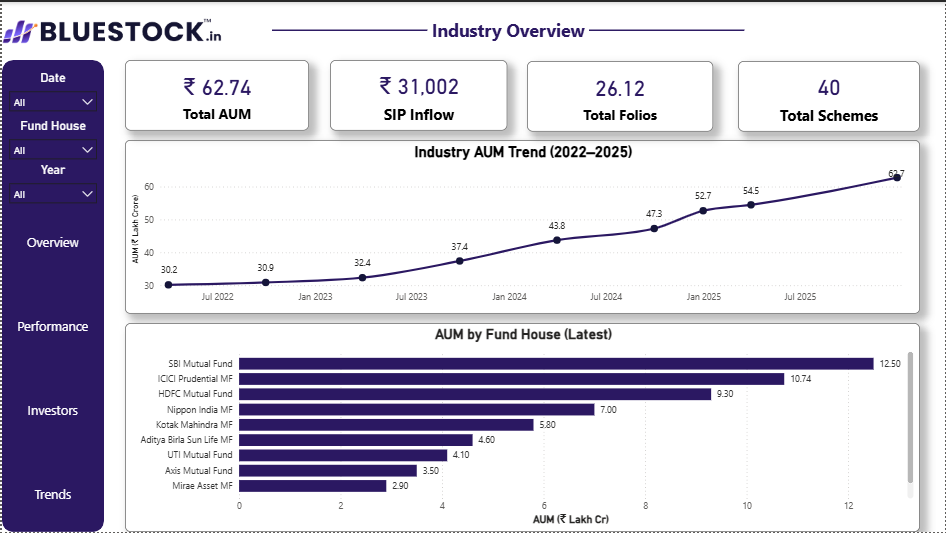

What the dashboard file says about the page in this screenshot:
{"tool":"powerbi","page":{"name":"Overview","canvas":[1280,720],"ordinal":0},"visuals":[{"type":"textbox","box":[578.6,15.7,218.6,42.9],"z":0},{"type":"shape","box":[367.1,17.1,211.4,41.4],"z":1000},{"type":"shape","box":[0,78.6,138.6,641.4],"z":2000},{"type":"pageNavigator","box":[0,272.9,138.6,447.1],"z":3000},{"type":"card","title":"Total AUM (₹ Lakh Cr)","fields":{"Values":["all measures.Total AUM"]},"box":[167.1,78.6,250,95.7],"z":4000},{"type":"shape","box":[797.1,17.1,211.4,41.4],"z":5000},{"type":"card","title":"Total AUM (₹ Lakh Cr)","fields":{"Values":["all measures.Latest SIP Inflow"]},"box":[445.7,78.6,241.4,95.7],"z":6000},{"type":"card","title":"Total AUM (₹ Lakh Cr)","fields":{"Values":["all measures.Latest Folios"]},"box":[712.9,80,252.9,95.7],"z":7000},{"type":"card","title":"Total AUM (₹ Lakh Cr)","fields":{"Values":["all measures.Total Schemes"]},"box":[1000,80,247.1,95.7],"z":8000},{"type":"lineChart","title":"Industry AUM Trend (2022–2025)","fields":{"Category":["aum_by_fund_house_cleaned.date"],"Y":["Sum(aum_by_fund_house_cleaned.aum_lakh_crore)"]},"box":[167.1,187.1,1080,235.7],"z":9000},{"type":"clusteredBarChart","title":"AUM by Fund House (Latest)","fields":{"Category":["aum_by_fund_house_cleaned.fund_house"],"Y":["all measures.Latest AUM by Fund House"]},"box":[167.1,435.7,1080,284.3],"z":10000},{"type":"slicer","title":"Year","fields":{"Values":["aum_by_fund_house_cleaned.date.Variation.Date Hierarchy.Year"]},"box":[0,217.1,138.6,60],"z":11000},{"type":"slicer","title":"Fund House","fields":{"Values":["aum_by_fund_house_cleaned.fund_house"]},"box":[0,157.1,138.6,60],"z":12000},{"type":"slicer","title":"Date","fields":{"Values":["aum_by_fund_house_cleaned.date"]},"box":[0,92.9,138.6,60],"z":13000},{"type":"image","box":[0,0,300,78.6],"z":14000}]}

Visuals, with their boxes on the page's 1280x720 design canvas (x1, y1, x2, y2). These are canvas units, not pixel positions in the 946x533 screenshot, which may show the page scaled, cropped or inside an application window:
textbox: [x1=579, y1=16, x2=797, y2=59]
shape: [x1=367, y1=17, x2=578, y2=58]
shape: [x1=0, y1=79, x2=139, y2=720]
pageNavigator: [x1=0, y1=273, x2=139, y2=720]
"Total AUM (₹ Lakh Cr)" card: [x1=167, y1=79, x2=417, y2=174]
shape: [x1=797, y1=17, x2=1008, y2=58]
"Total AUM (₹ Lakh Cr)" card: [x1=446, y1=79, x2=687, y2=174]
"Total AUM (₹ Lakh Cr)" card: [x1=713, y1=80, x2=966, y2=176]
"Total AUM (₹ Lakh Cr)" card: [x1=1000, y1=80, x2=1247, y2=176]
"Industry AUM Trend (2022–2025)" lineChart: [x1=167, y1=187, x2=1247, y2=423]
"AUM by Fund House (Latest)" clusteredBarChart: [x1=167, y1=436, x2=1247, y2=720]
"Year" slicer: [x1=0, y1=217, x2=139, y2=277]
"Fund House" slicer: [x1=0, y1=157, x2=139, y2=217]
"Date" slicer: [x1=0, y1=93, x2=139, y2=153]
image: [x1=0, y1=0, x2=300, y2=79]
